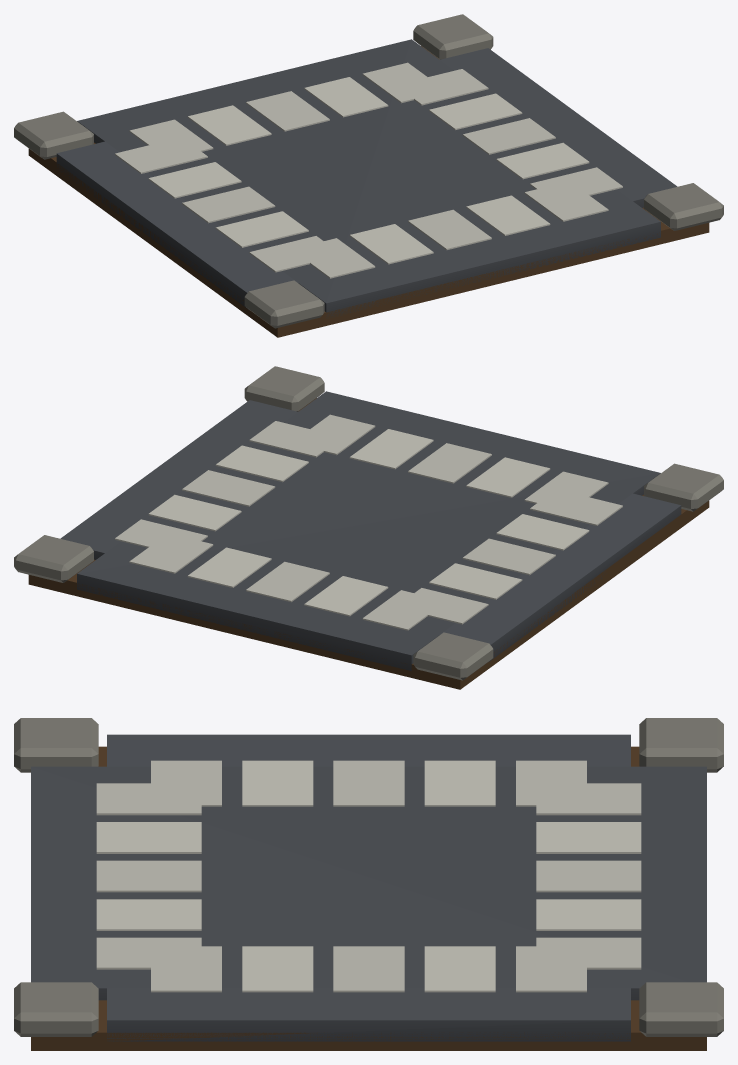
Rendered from road-intersection-01.glb.
3 renders of one model, top to bottom at view 1: azimuth 30°, elevation 25°; view 2: azimuth 150°, elevation 25°; view 3: azimuth 270°, elevation 25°, orthographic. The views are drawn at different scales.
Visible parts, largest first — view 1: road_intersection_01; view 2: road_intersection_01; view 3: road_intersection_01.
Boxes of the visible parts, box(x1,y1,x2,y2) form: road_intersection_01: box(14, 14, 723, 337); road_intersection_01: box(14, 366, 723, 689); road_intersection_01: box(14, 718, 723, 1050).
Bounding box in the file's own units: 4.2 × 0.2799 × 4.2.
